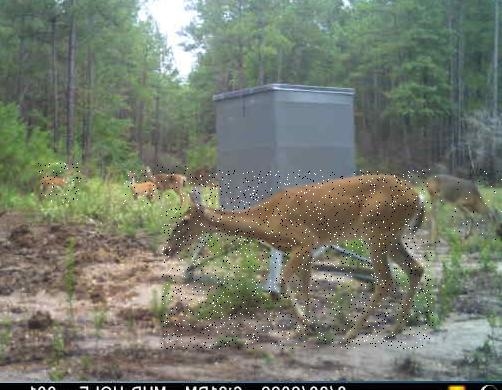Deer: (161, 170, 433, 349), (428, 168, 502, 243), (141, 165, 188, 207), (38, 164, 82, 204), (123, 170, 159, 207)
